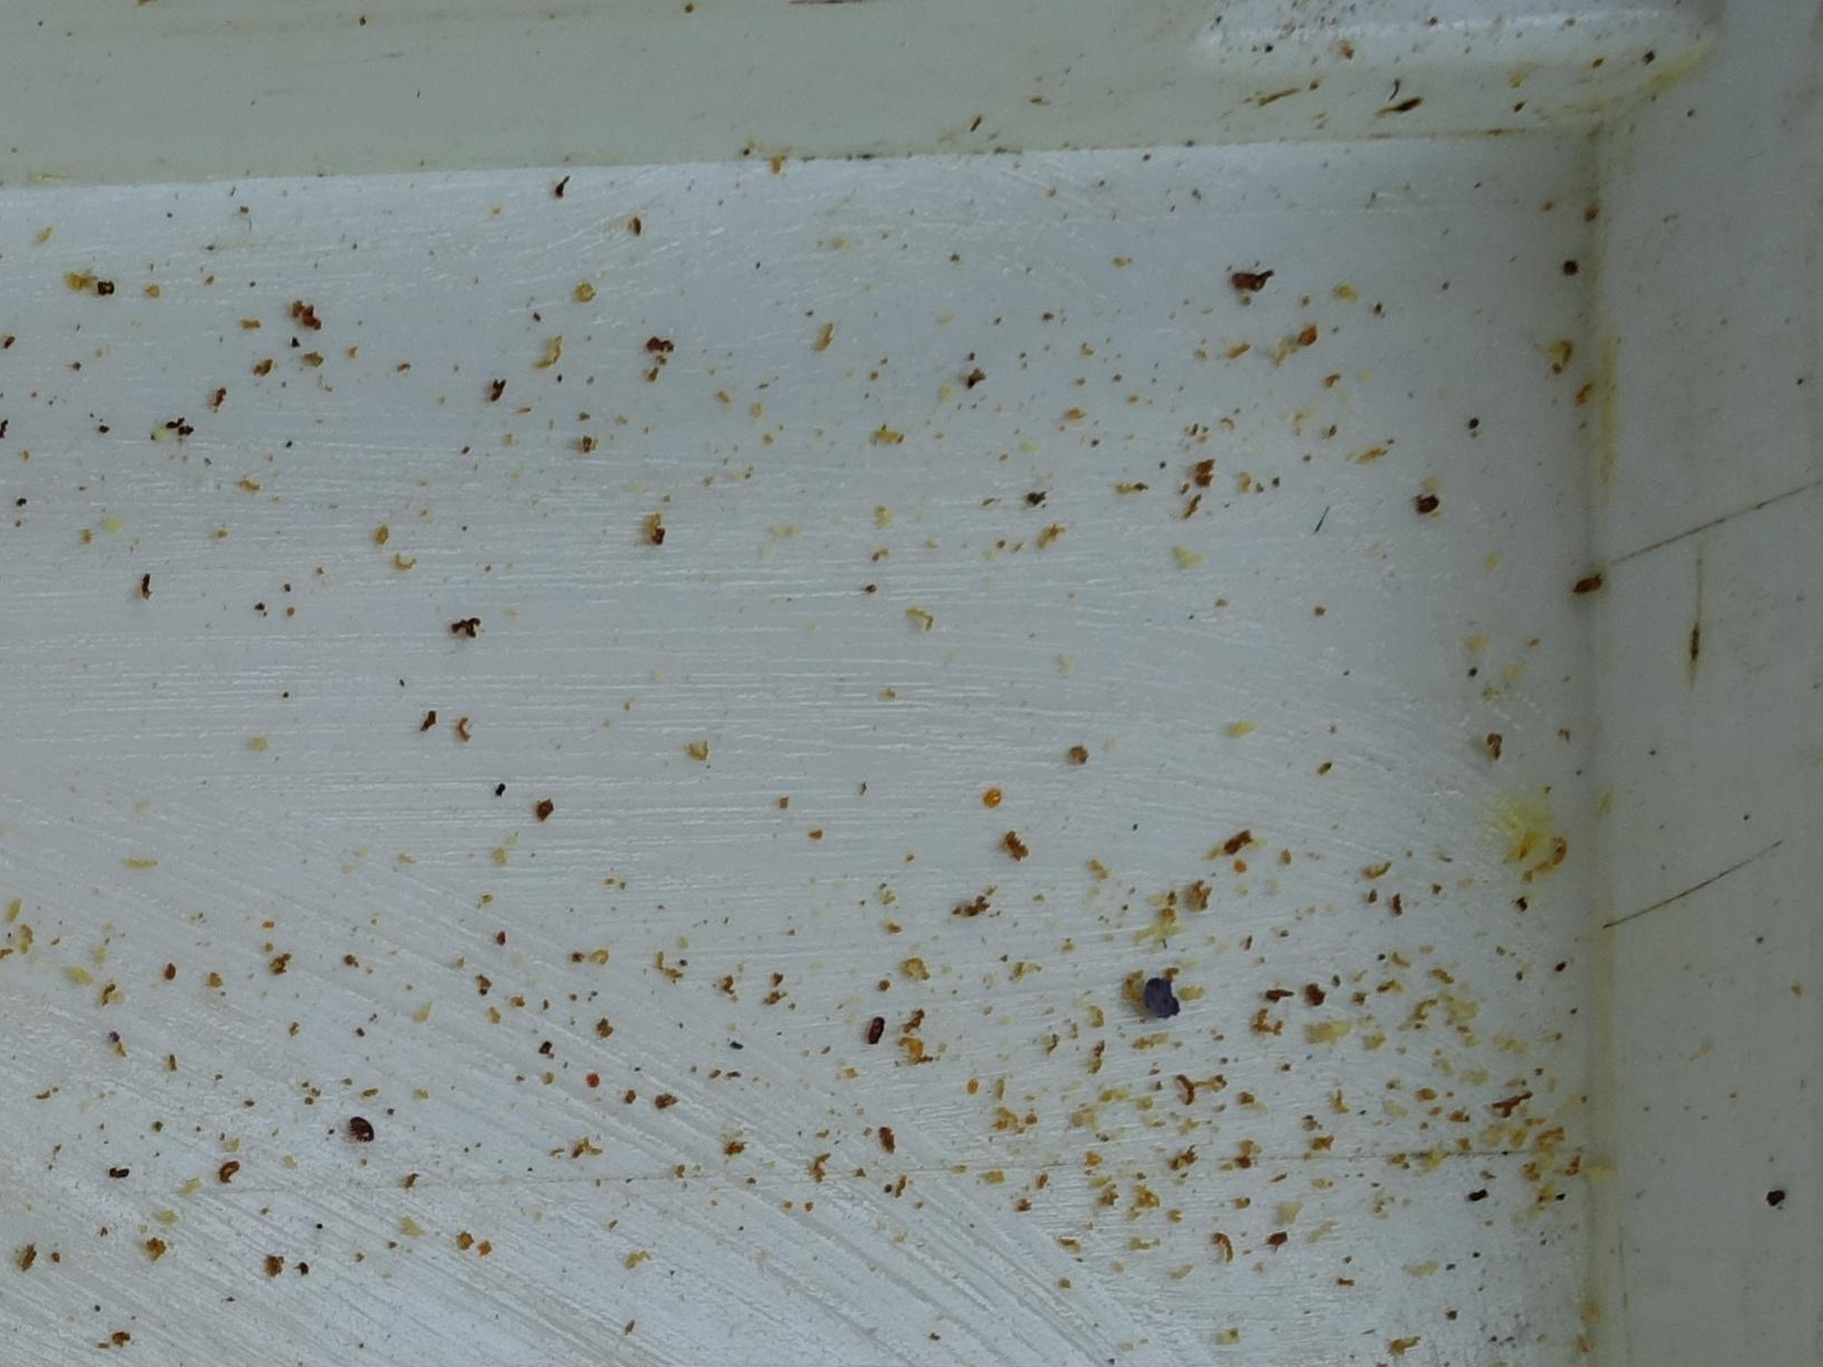Varroa: (352, 1119, 372, 1139)
